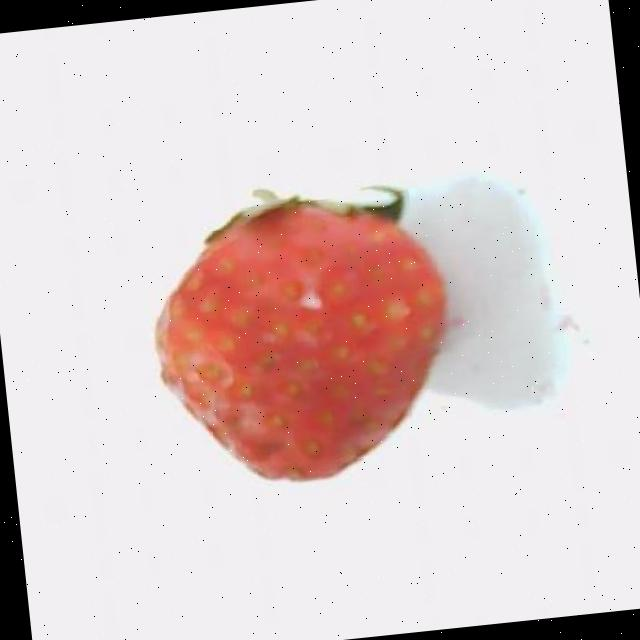strawberry: (154, 186, 443, 480)
